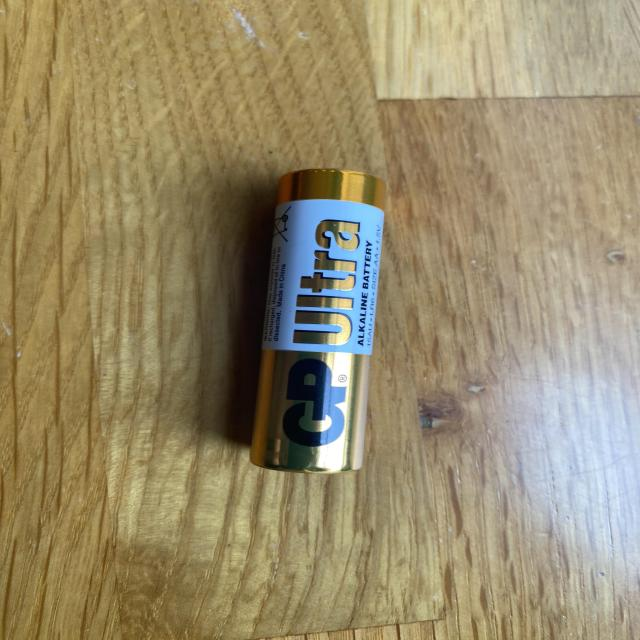AA: (248, 167, 386, 474)
